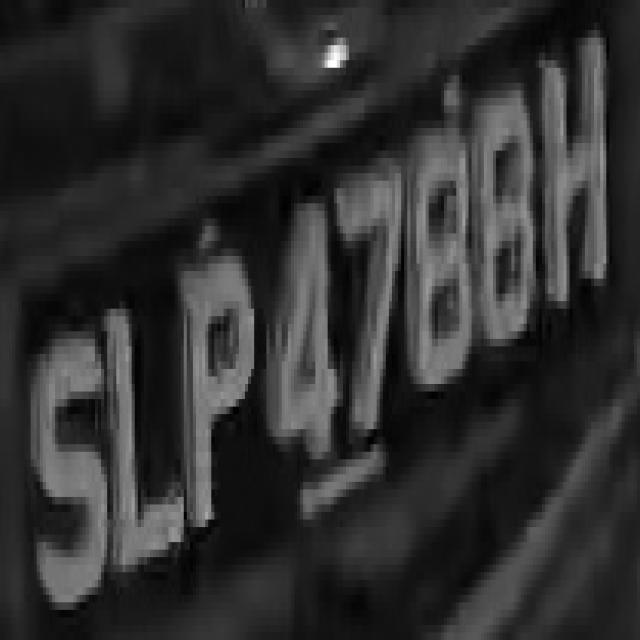4: (257, 166, 340, 482)
7: (334, 158, 407, 459)
8: (395, 90, 475, 399), (462, 98, 545, 369)
H: (548, 23, 616, 316)
L: (101, 264, 187, 588)
P: (181, 241, 263, 557)
S: (28, 331, 107, 610)
